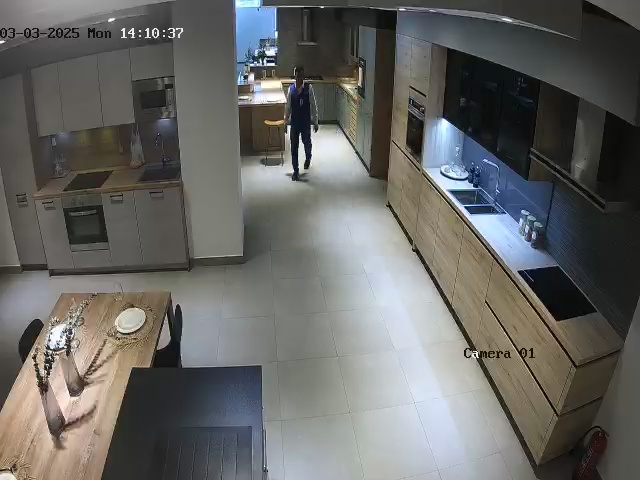employee: (283, 67, 319, 180)
